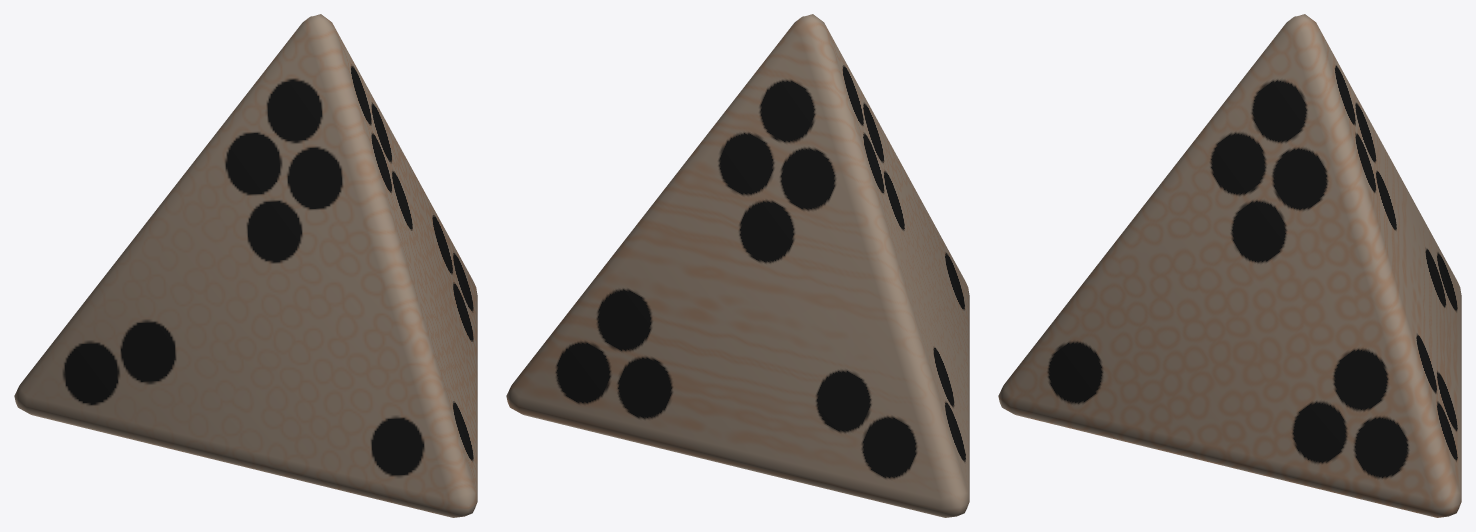
Rendered from Die.glb.
The picture shows the model from 3 angles, left to right: view 1: azimuth 30°, elevation 25°; view 2: azimuth 150°, elevation 25°; view 3: azimuth 270°, elevation 25°; orthographic projection.
Visible parts, largest first — view 1: GD_mesh.001; view 2: GD_mesh.001; view 3: GD_mesh.001.
Part boxes in pixels (x1=…): GD_mesh.001: x1=14, y1=14, x2=477, y2=517; GD_mesh.001: x1=506, y1=14, x2=969, y2=517; GD_mesh.001: x1=998, y1=14, x2=1461, y2=517.
Size of the model in its own units: 1.48 by 1.23 by 1.3.
Materials: 1 (1 with a texture image).
